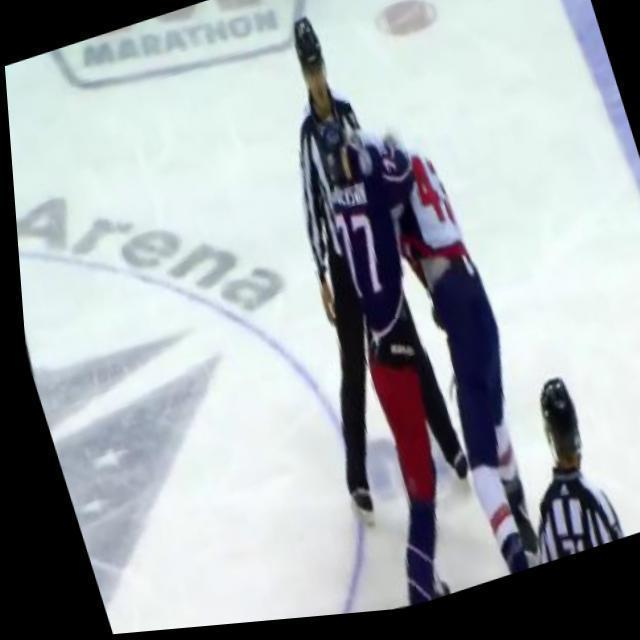fight: (262, 74, 586, 618)
